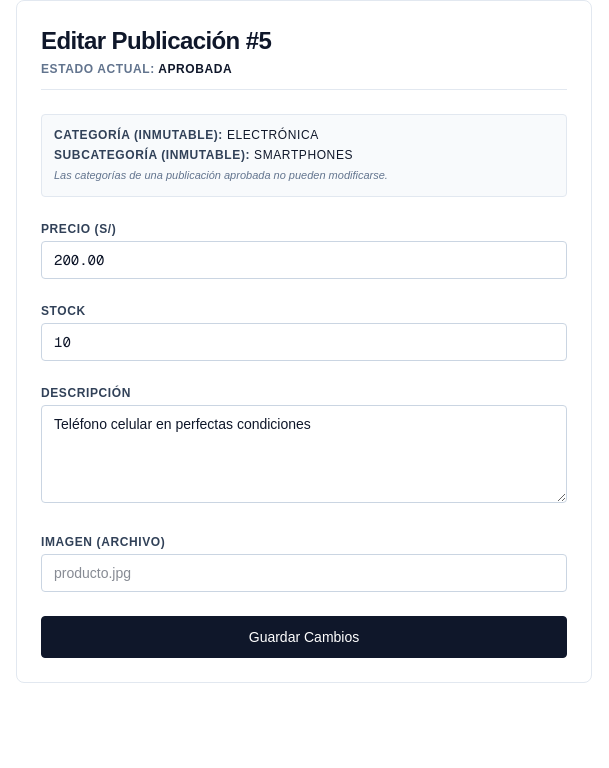
Test: PHA02TSK14 - Parte B: EditarPublicacionForm › muestra mensaje de error 409 cuando la publicación se encuentra en estado no editable
Click the button "Guardar Cambios": (304, 636) [41, 616, 567, 658]
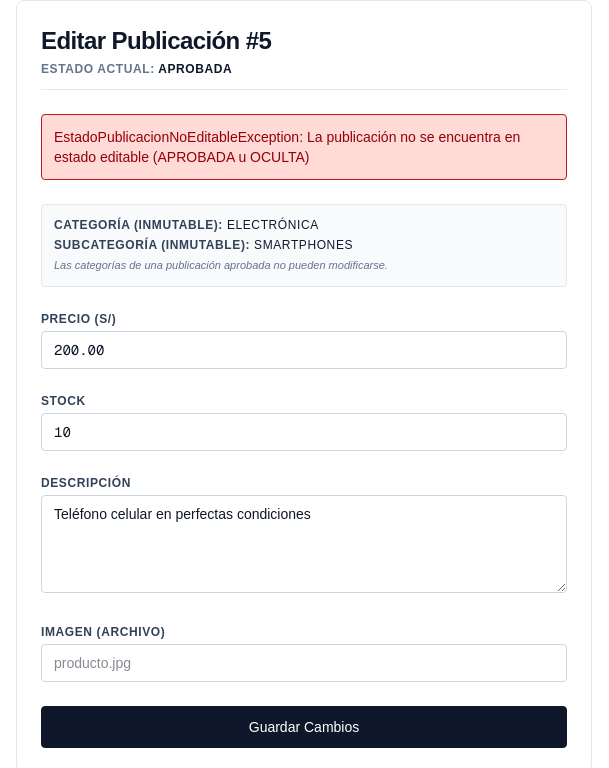
Now the text "EstadoPublicacionNoEditableException" is shown, box [54, 129, 520, 165]
